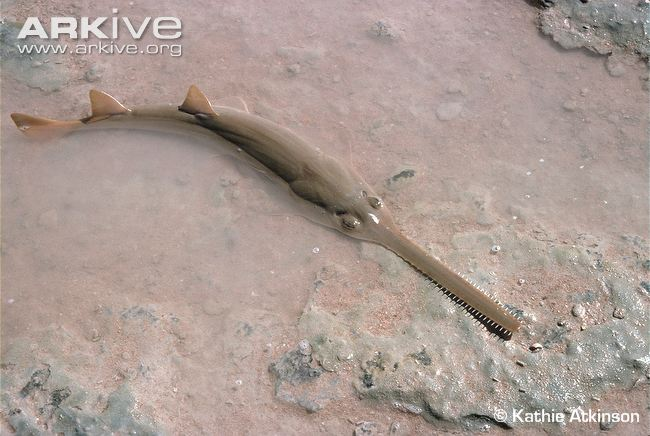shark: (6, 71, 550, 372)
